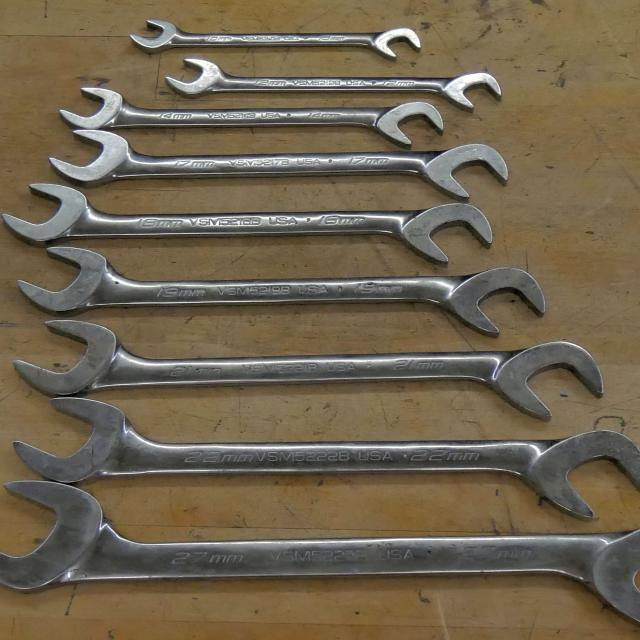wrench: (3, 480, 640, 622), (6, 398, 640, 521), (8, 318, 614, 424), (15, 245, 552, 339), (0, 181, 496, 266), (35, 124, 513, 200), (54, 80, 451, 147), (158, 52, 508, 114), (120, 13, 427, 68)
